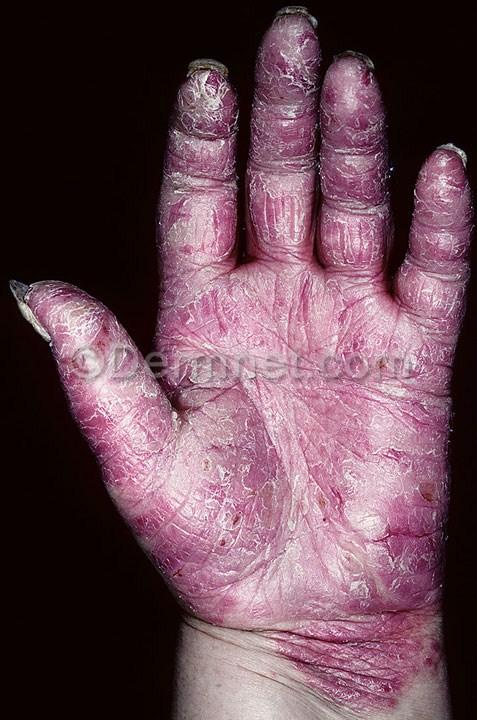Eczema: (193, 289, 340, 461), (183, 472, 324, 629), (341, 481, 442, 650), (351, 309, 452, 473), (77, 351, 154, 440), (161, 214, 227, 273), (256, 147, 299, 230), (328, 78, 387, 135), (402, 238, 462, 294), (265, 43, 313, 108), (172, 108, 219, 169), (422, 172, 471, 228), (341, 162, 372, 241)
